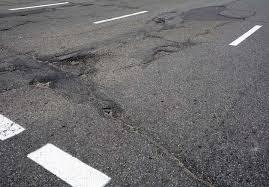crack: (94, 102, 233, 187)
pothole: (179, 3, 247, 24), (47, 43, 102, 66), (143, 39, 191, 64), (29, 76, 57, 91)
